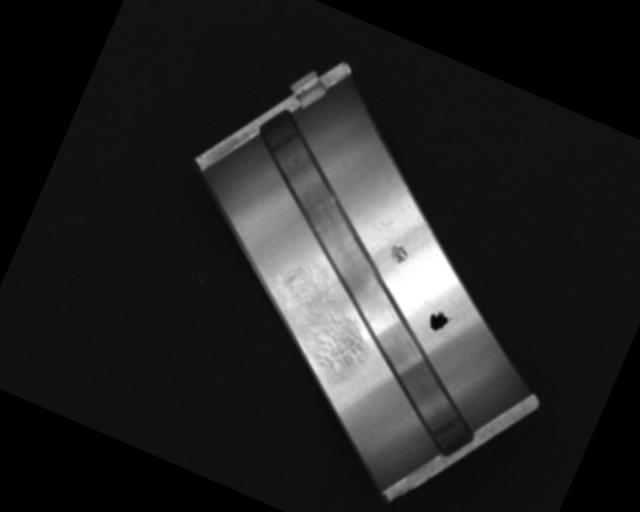blot: (424, 305, 455, 336)
bruise: (386, 240, 413, 267)
gap: (171, 105, 555, 460)
scratch: (258, 253, 391, 379)
